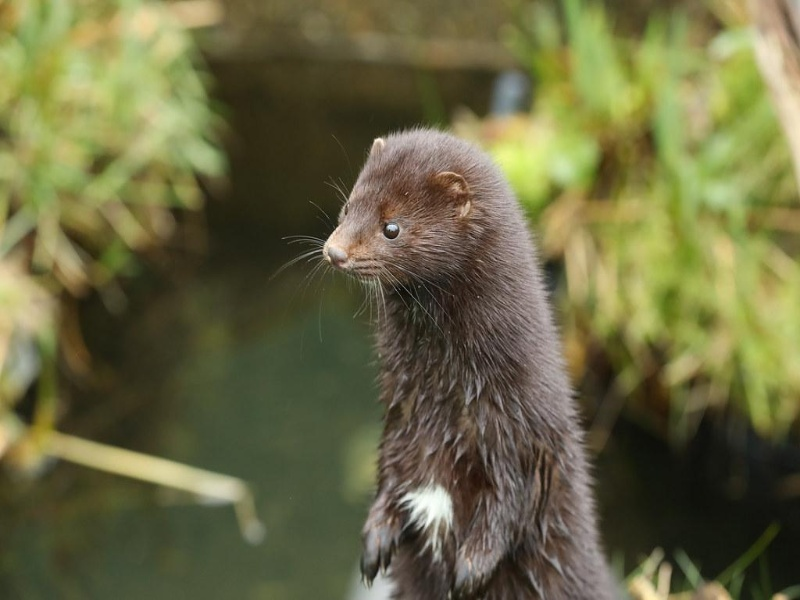minkish: (314, 127, 656, 598)
